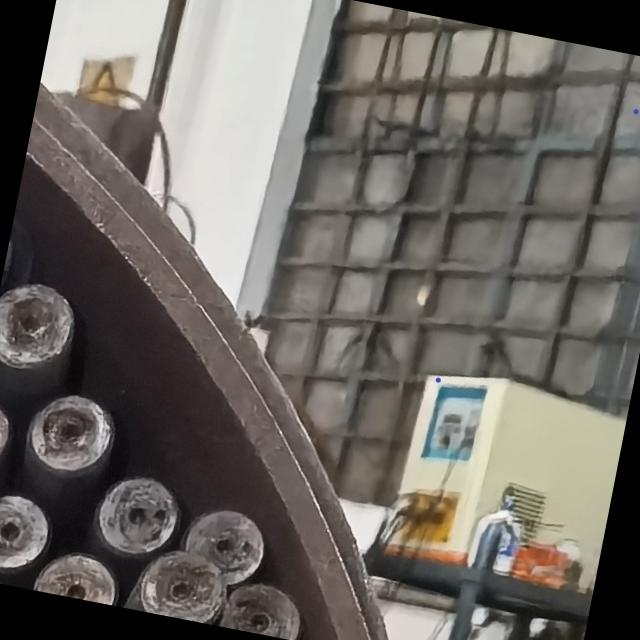tool: (77, 466, 186, 564), (23, 388, 122, 488), (0, 274, 81, 380), (131, 541, 232, 624), (181, 501, 270, 588), (34, 544, 123, 606), (220, 577, 304, 640), (0, 489, 54, 574), (0, 396, 16, 477)
